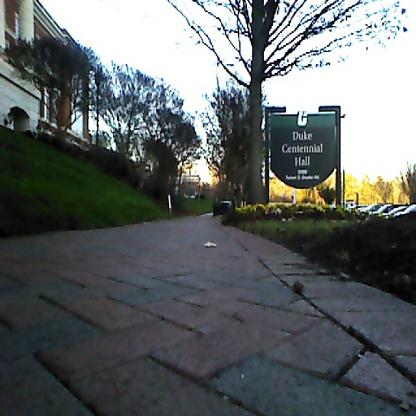Edge: (0, 126, 173, 243), (224, 210, 416, 309)
Sidewalk: (0, 212, 416, 416)
